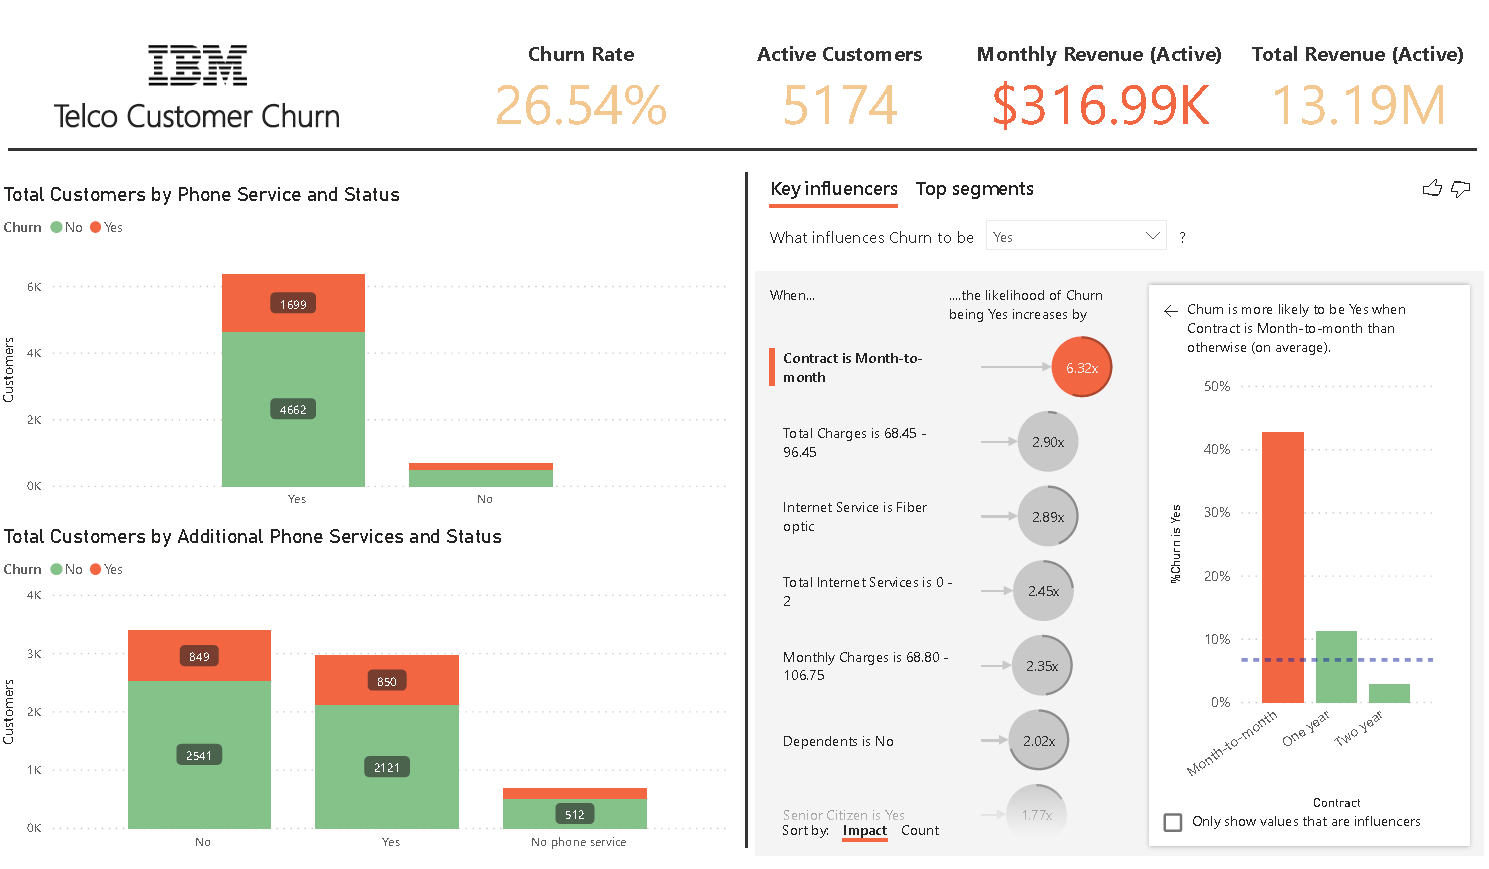

The dashboard page shown, as its layout file describes it:
{"tool":"powerbi","page":{"name":"Telco Churn","canvas":[1280,720],"ordinal":0},"visuals":[{"type":"image","box":[36.6,11.1,268.6,52.5],"z":0},{"type":"textbox","box":[0,55.6,343.3,47.7],"z":1000},{"type":"card","title":"Churn Rate","fields":{"Values":["MeasuresTable.ChurnRate"]},"box":[389.4,14.3,222.5,84.2],"z":2000},{"type":"card","title":"Active Customers","fields":{"Values":["MeasuresTable.ActiveCustomers"]},"box":[611.9,14.3,222.5,84.2],"z":3000},{"type":"card","title":"Monthly Revenue (Active)","fields":{"Values":["MeasuresTable.ActiveMonthlyCharge"]},"box":[834.4,14.3,222.5,84.2],"z":4000},{"type":"card","title":"Total Revenue (Active)","fields":{"Values":["MeasuresTable.ActiveTotalCharges"]},"box":[1057,14.3,222.5,84.2],"z":5000},{"type":"keyDriversVisual","fields":{"ExplainBy":["TelecomChurn.Contract","TelecomChurn.Internet Service","TelecomChurn.Phone Service","Sum(TelecomChurn.InternetServices)","TelecomChurn.Gender","TelecomChurn.Partner","TelecomChurn.Dependents","TelecomChurn.Senior Citizen","Sum(TelecomChurn.Tenure)","Sum(TelecomChurn.Monthly Charges)","Sum(TelecomChurn.Total Charges)"],"Target":["TelecomChurn.Churn"]},"box":[645.3,119.2,634.2,600.8],"z":6000},{"type":"basicShape","box":[0,95.4,1279.5,27],"z":7000},{"type":"columnChart","title":"Total Customers by Phone Service and Status","fields":{"Category":["TelecomChurn.Phone Service"],"Y":["Count(TelecomChurn.Customer ID)"],"Series":["TelecomChurn.Churn"]},"box":[0,137.8,633.3,290],"z":10000},{"type":"columnChart","title":"Total Customers by Additional Phone Services and Status","fields":{"Category":["TelecomChurn.Multiple Lines"],"Y":["Count(TelecomChurn.Customer ID)"],"Series":["TelecomChurn.Churn"]},"box":[0,430.5,633.3,289.5],"z":16000},{"type":"basicShape","box":[635.8,119.2,14.3,599.2],"z":17000}]}

Visuals, with their boxes on the page's 1280x720 design canvas (x1, y1, x2, y2). These are canvas units, not pixel positions in the 1489x869 screenshot, which may show the page scaled, cropped or inside an application window:
image: <bbox>37, 11, 305, 64</bbox>
textbox: <bbox>0, 56, 343, 103</bbox>
"Churn Rate" card: <bbox>389, 14, 612, 98</bbox>
"Active Customers" card: <bbox>612, 14, 834, 98</bbox>
"Monthly Revenue (Active)" card: <bbox>834, 14, 1057, 98</bbox>
"Total Revenue (Active)" card: <bbox>1057, 14, 1280, 98</bbox>
keyDriversVisual - TelecomChurn.Contract x TelecomChurn.Internet Service: <bbox>645, 119, 1280, 720</bbox>
basicShape: <bbox>0, 95, 1280, 122</bbox>
"Total Customers by Phone Service and Status" columnChart: <bbox>0, 138, 633, 428</bbox>
"Total Customers by Additional Phone Services and Status" columnChart: <bbox>0, 430, 633, 720</bbox>
basicShape: <bbox>636, 119, 650, 718</bbox>
